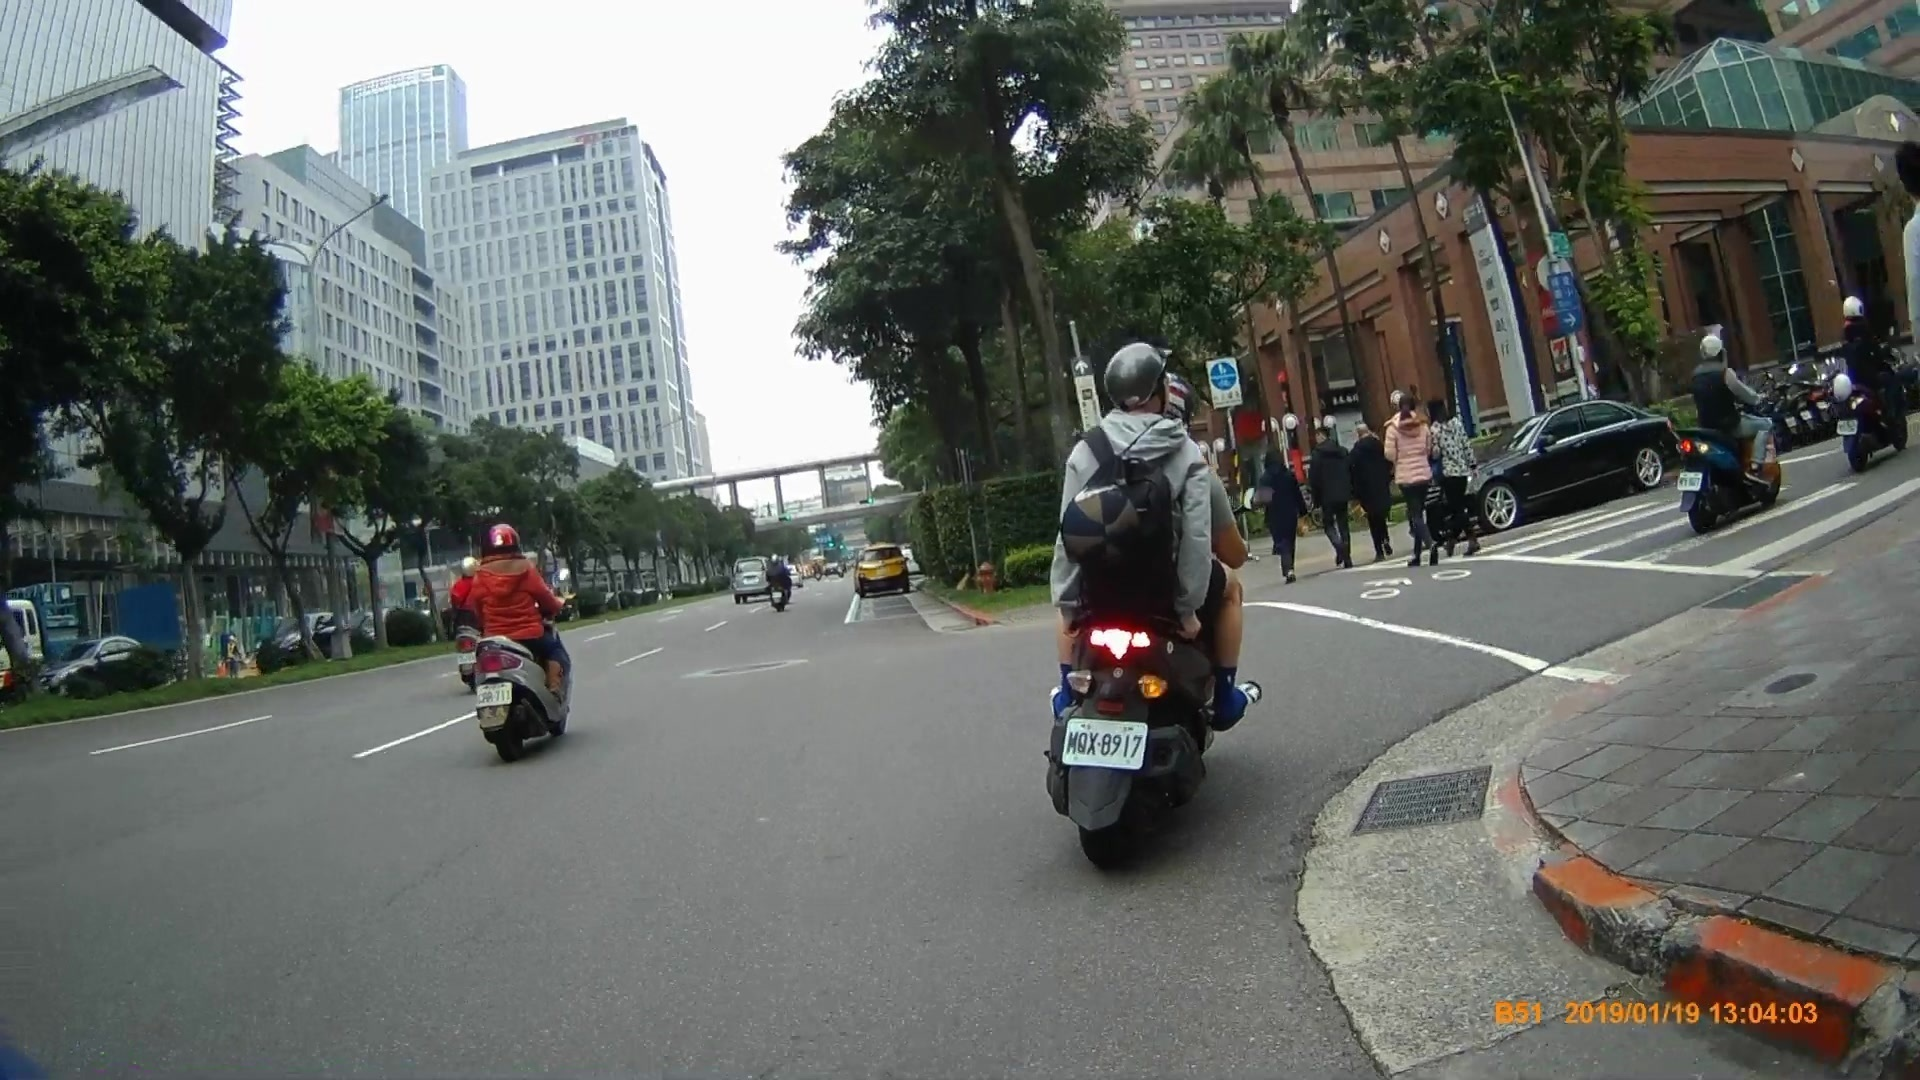License_plate: (1054, 715, 1157, 776), (473, 683, 516, 704), (1673, 467, 1706, 493)
